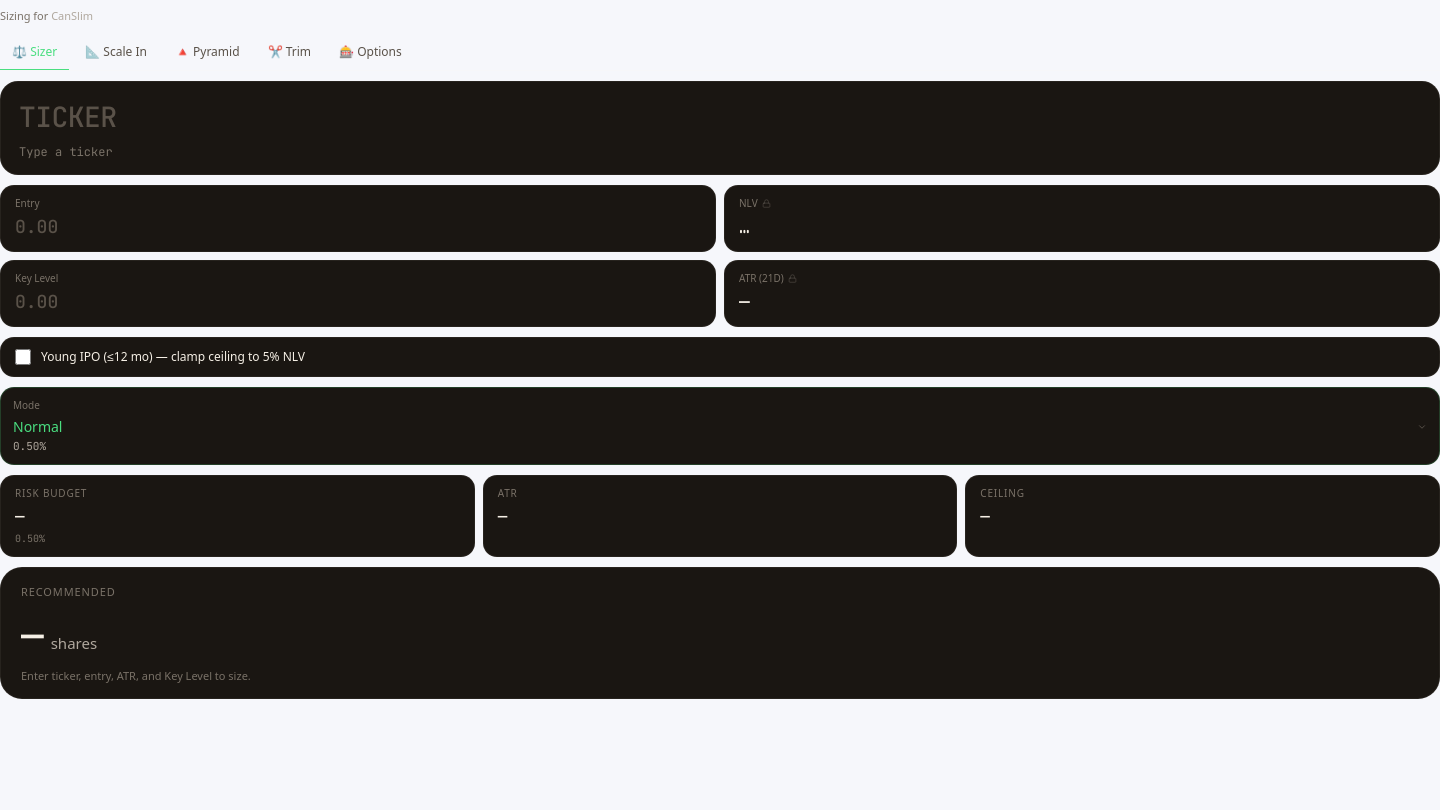
Test: MobilePositionSizer — Size picker › Size picker exposes all 8 desktop SIZE_OPTIONS (Scale-In tab)
The width and height of the screenshot is (1440, 810).
Click the tab "📐 Scale In": (116, 52) [73,34,159,70]
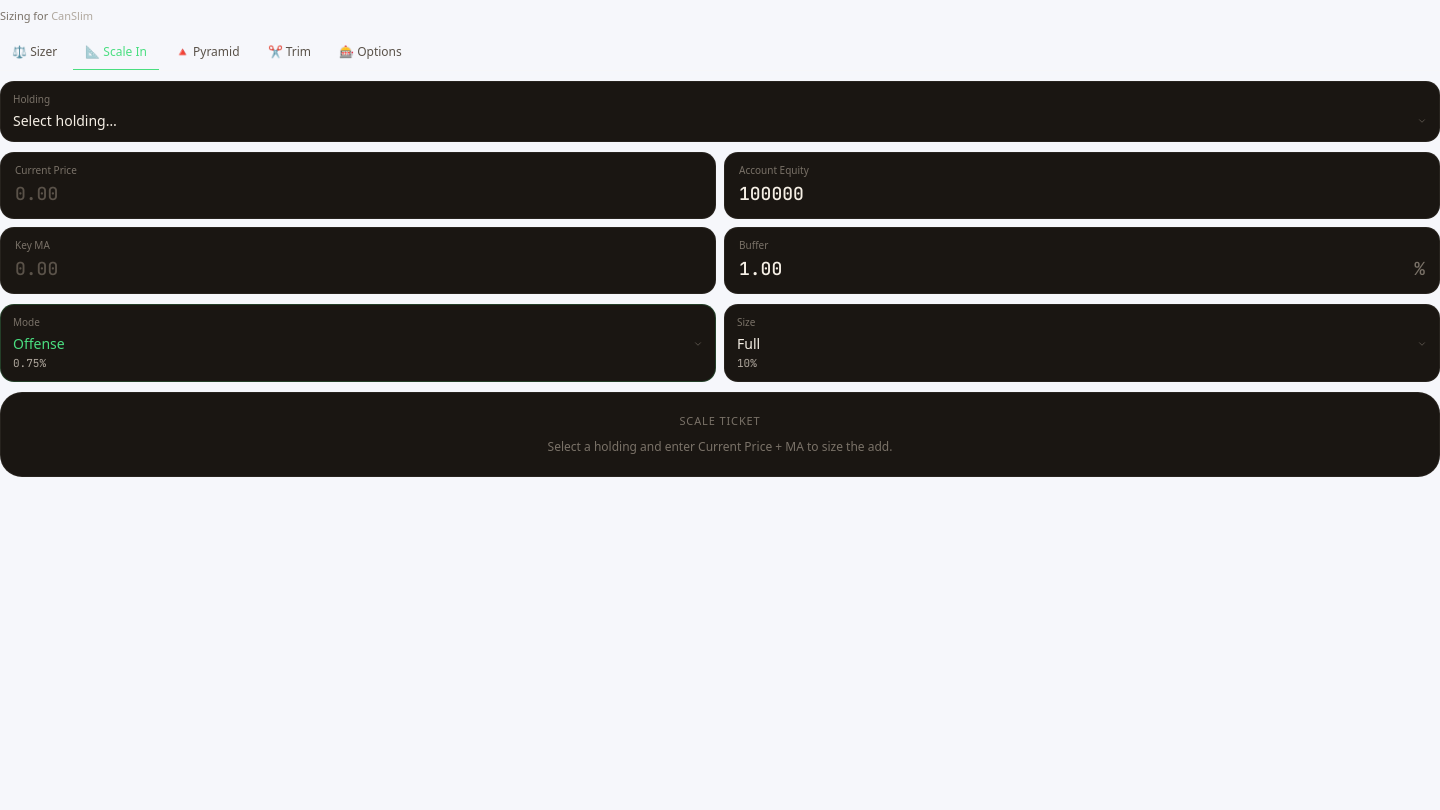
Click the button with aria-label "Size: Full": (746, 322) [724,304,1439,382]
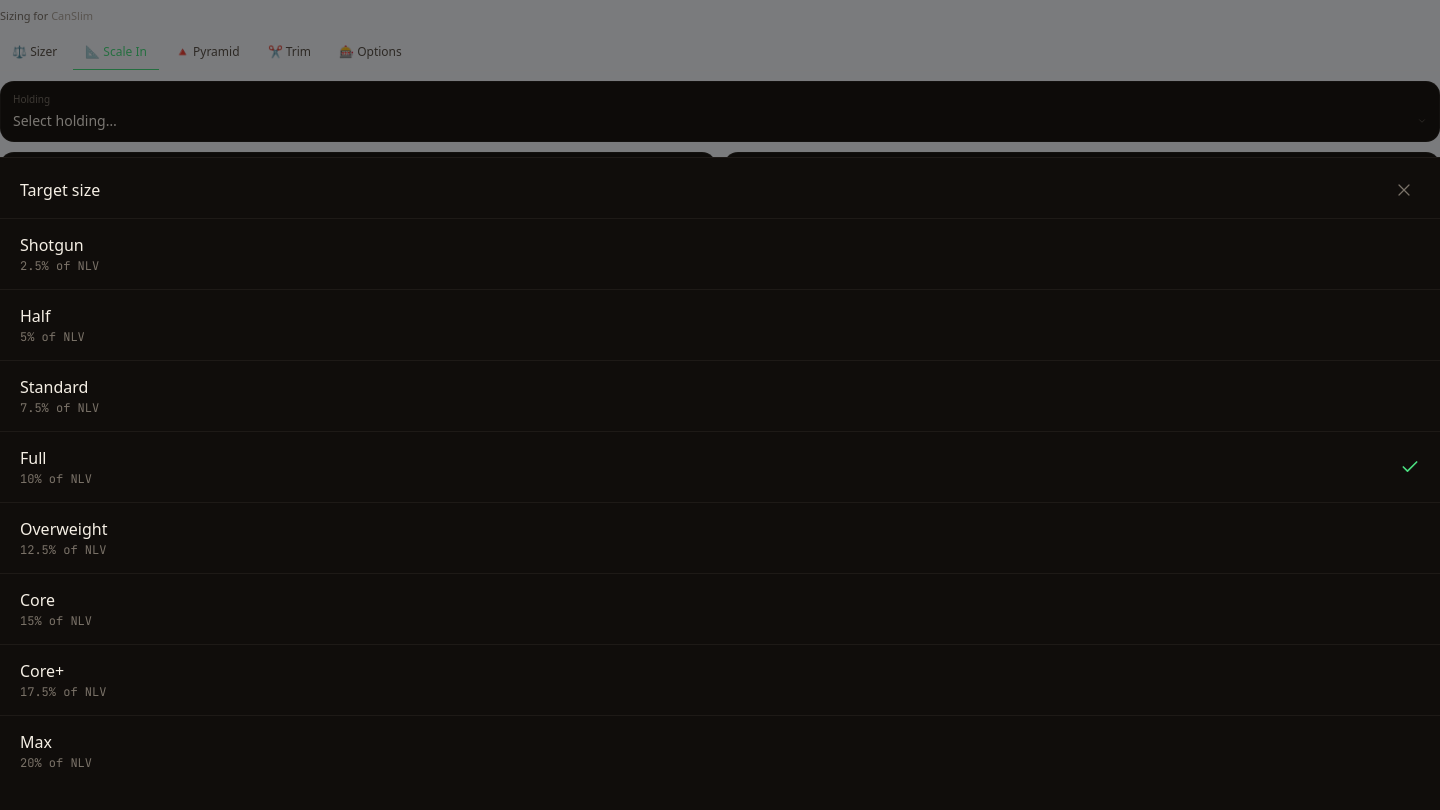
Expected: the text "Shotgun" is shown
Expected: the text "Half" is shown, [20,305,50,327]
Expected: the text "Standard" is shown, [20,375,99,399]
Click the text "Shotgun": (52, 245) [20,234,84,256]
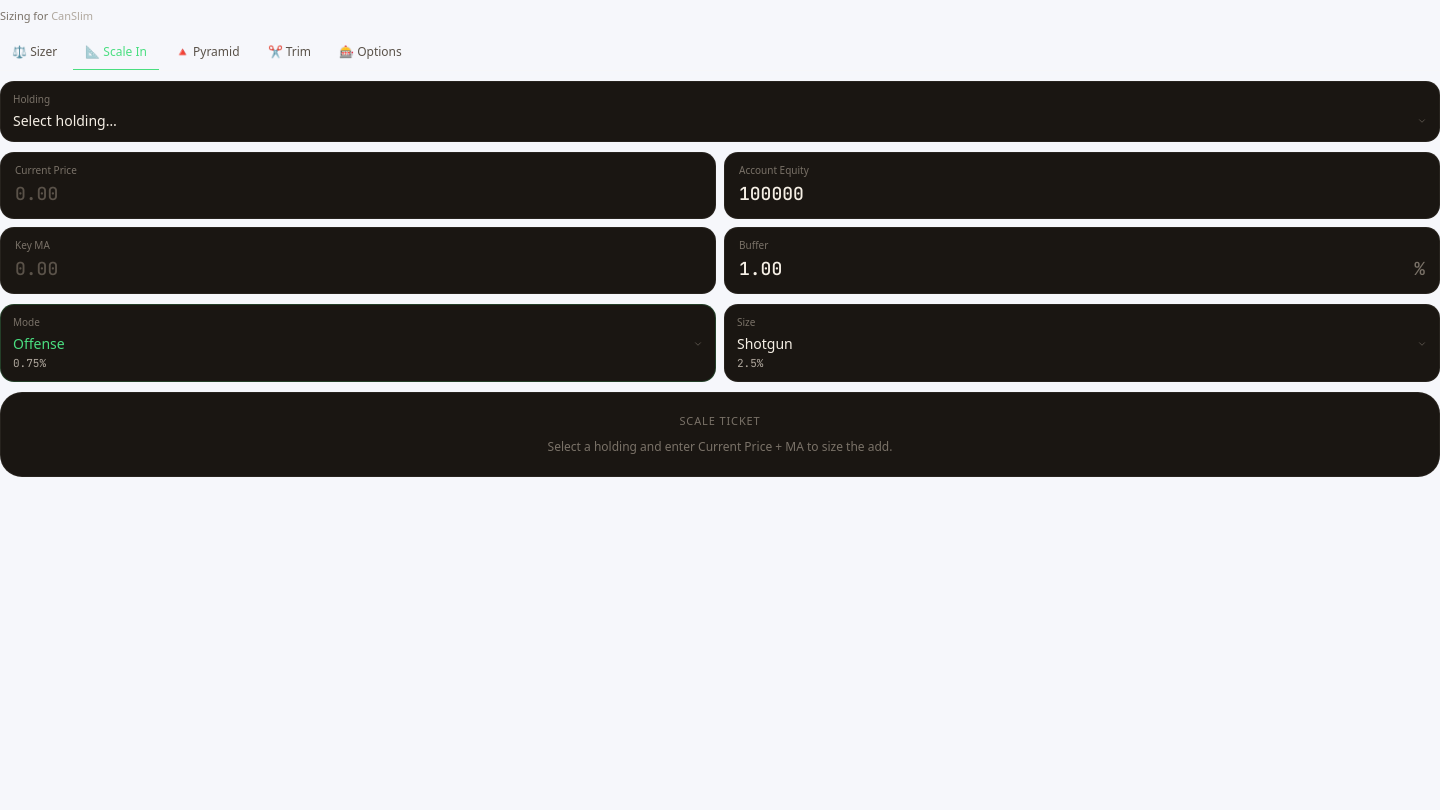
Expected: the button with aria-label "Size: Shotgun" is shown, [724,304,1439,382]
